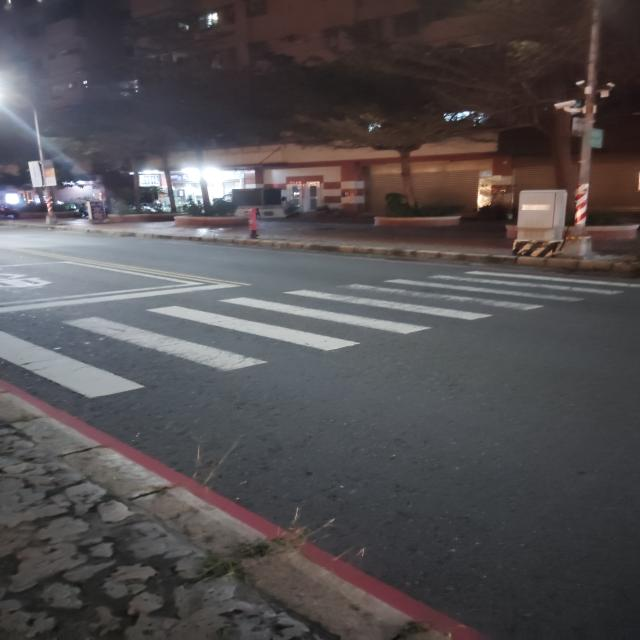zebra_crossing: (6, 162, 11, 509)
